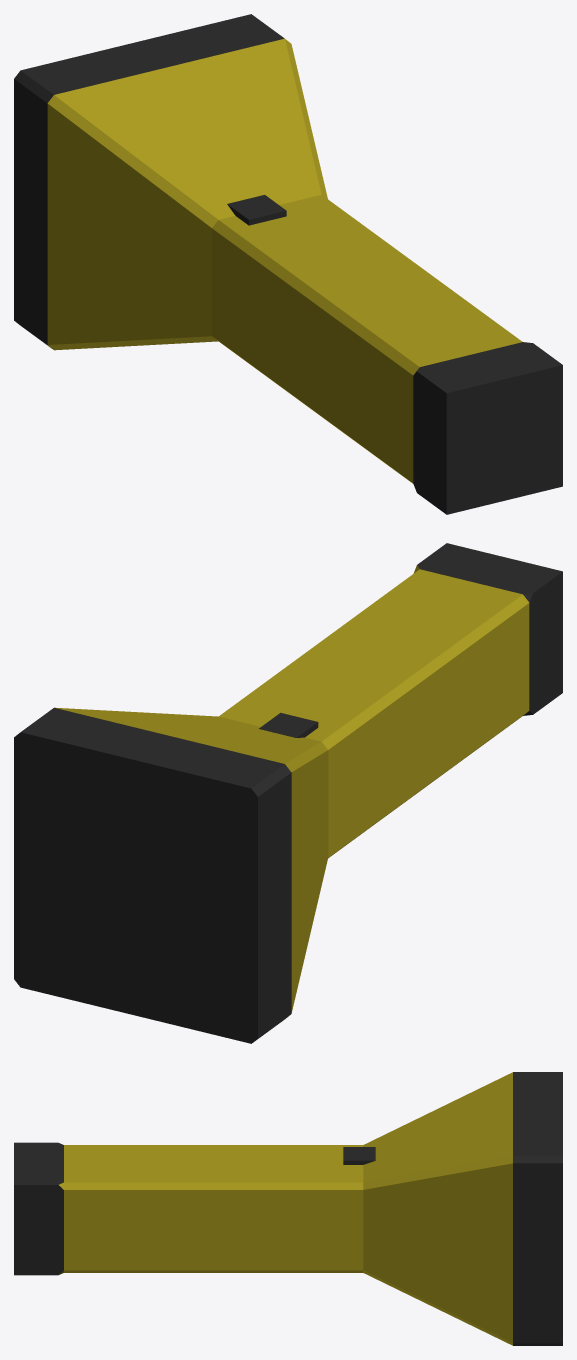
File: FlashLight.gltf
3 views of the same model, one above another, from view 1: azimuth 30°, elevation 25°; view 2: azimuth 150°, elevation 25°; view 3: azimuth 270°, elevation 25° (orthographic). The views are drawn at different scales.
Parts seen in each view (by area): view 1: Cube; view 2: Cube; view 3: Cube.
Part boxes in pixels (x1=…): Cube: x1=14, y1=14, x2=562, y2=514; Cube: x1=14, y1=543, x2=562, y2=1043; Cube: x1=14, y1=1072, x2=562, y2=1345.
Size of the model in its own units: 4.2 by 4.2 by 11.
